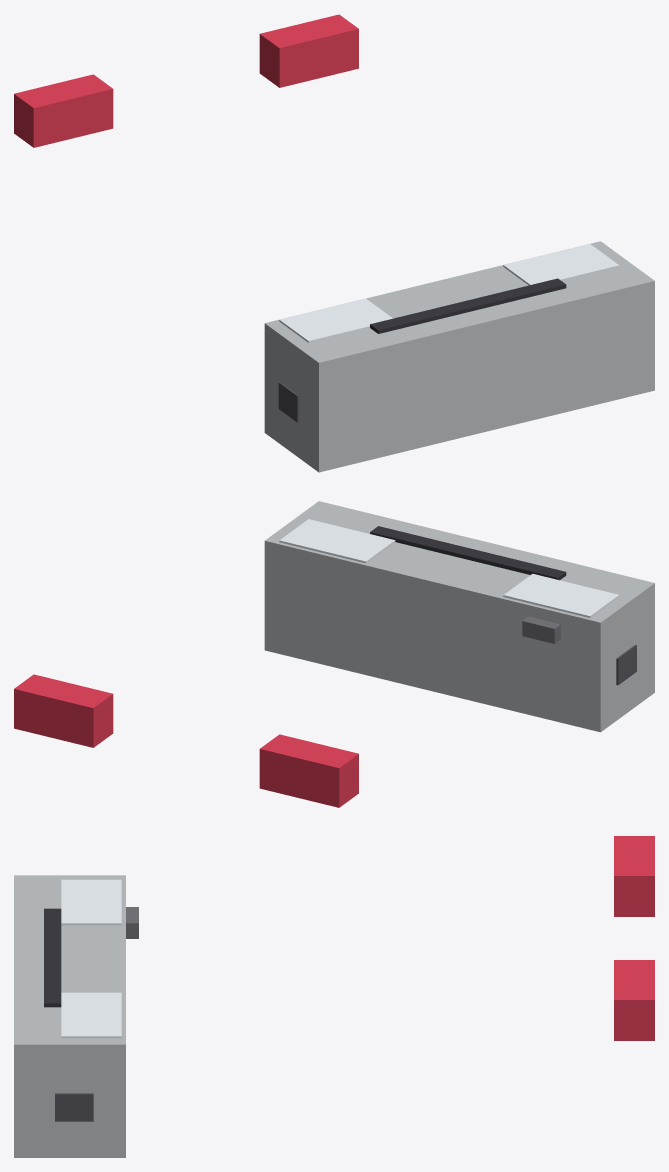
The model's file is ttrs_matrix_led_and_fascia_assembly.glb.
3 views of the same model, one above another, from view 1: azimuth 30°, elevation 25°; view 2: azimuth 150°, elevation 25°; view 3: azimuth 270°, elevation 25° (orthographic). The views are drawn at different scales.
Parts seen in each view (by area): view 1: node_front_bumper_shell, node_oled_taillight_l, node_oled_taillight_r, node_matrix_headlight_l, node_matrix_headlight_r, node_grille_honeycomb; view 2: node_front_bumper_shell, node_oled_taillight_l, node_oled_taillight_r, node_matrix_headlight_r, node_matrix_headlight_l, node_grille_honeycomb, node_led_driver_modules, node_canards_left; view 3: node_front_bumper_shell, node_oled_taillight_l, node_oled_taillight_r, node_matrix_headlight_l, node_matrix_headlight_r, node_grille_honeycomb, node_canards_right.
Boxes of the visible parts, left/top/right/bottom form: node_front_bumper_shell: left=264, top=241, right=654, bottom=472; node_oled_taillight_l: left=14, top=74, right=113, bottom=147; node_oled_taillight_r: left=259, top=14, right=358, bottom=87; node_matrix_headlight_l: left=279, top=298, right=392, bottom=342; node_matrix_headlight_r: left=503, top=244, right=619, bottom=285; node_grille_honeycomb: left=370, top=278, right=566, bottom=333; node_front_bumper_shell: left=264, top=501, right=654, bottom=732; node_oled_taillight_l: left=259, top=734, right=358, bottom=807; node_oled_taillight_r: left=14, top=674, right=113, bottom=747; node_matrix_headlight_r: left=279, top=519, right=395, bottom=563; node_matrix_headlight_l: left=503, top=574, right=619, bottom=617; node_grille_honeycomb: left=370, top=526, right=566, bottom=580; node_led_driver_modules: left=522, top=616, right=560, bottom=643; node_canards_left: left=616, top=645, right=636, bottom=685; node_front_bumper_shell: left=14, top=875, right=125, bottom=1157; node_oled_taillight_l: left=614, top=836, right=654, bottom=916; node_oled_taillight_r: left=614, top=960, right=654, bottom=1040; node_matrix_headlight_l: left=61, top=879, right=121, bottom=925; node_matrix_headlight_r: left=61, top=992, right=121, bottom=1038; node_grille_honeycomb: left=44, top=908, right=61, bottom=1007; node_canards_right: left=55, top=1093, right=93, bottom=1121.
Size of the model in its own units: 1.88 by 0.805 by 2.97.
